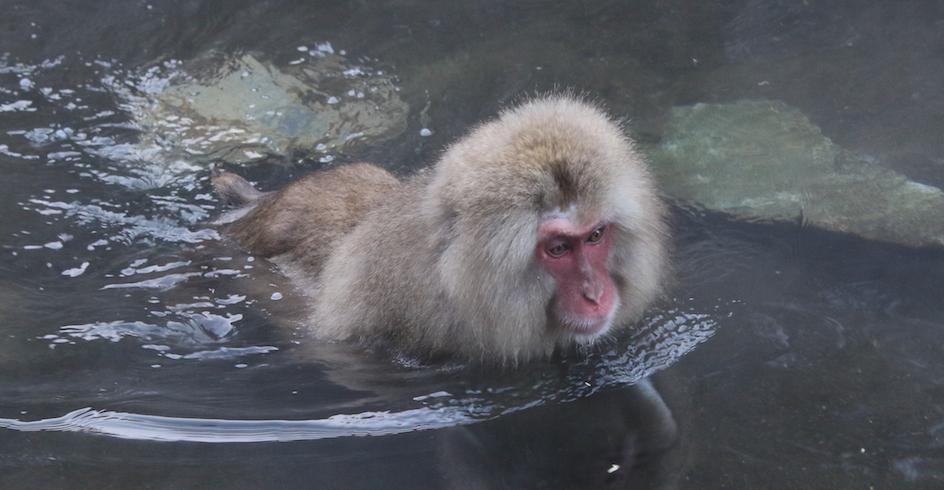monkey: (303, 95, 686, 395)
